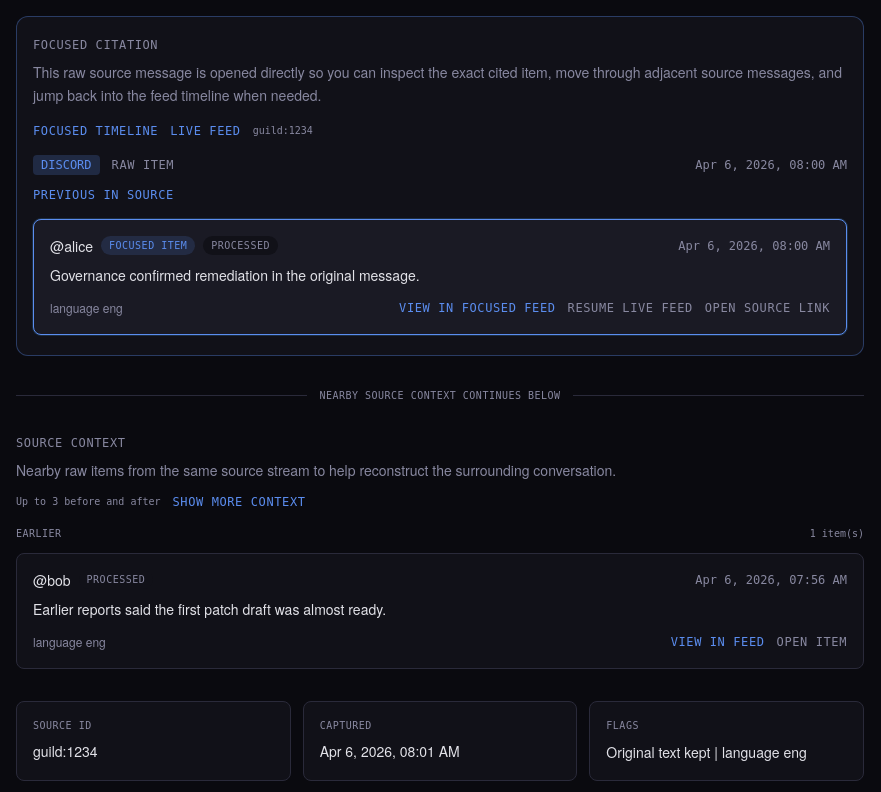
ItemView › keeps the wider source-context window while moving to the previous raw item in the same route
Expected: the text "Governance confirmed remediation in the original message." is shown, [50,264,420,284]
Click the button "Show more context".
click(239, 502)  # box [172,494,306,510]
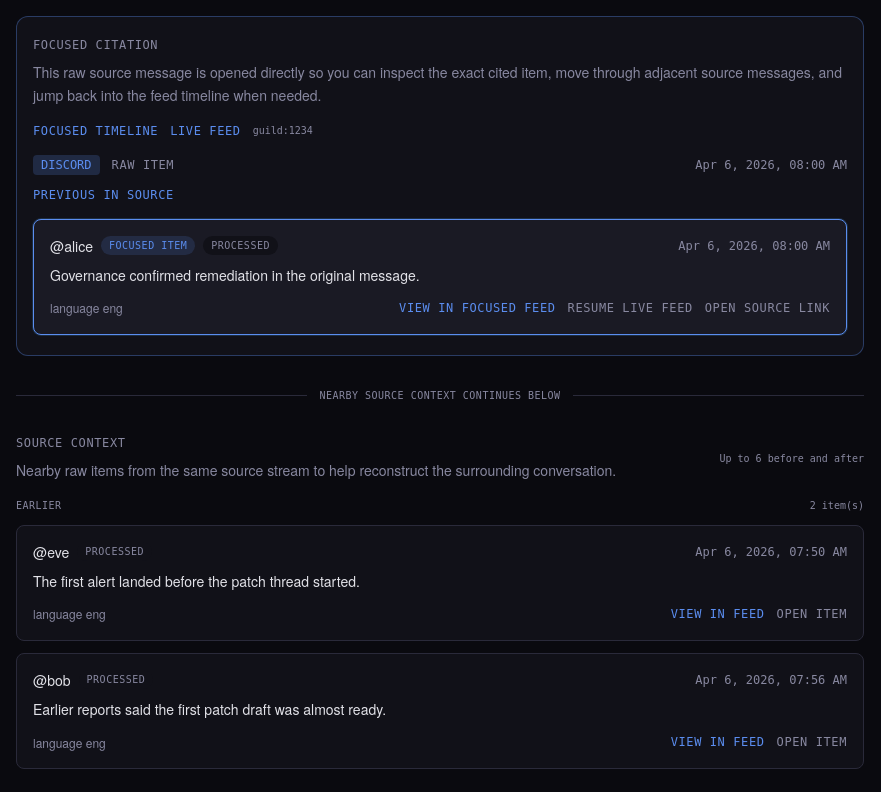
Now the text "The first alert landed before the patch thread started." is shown, box [33,570,360,590]
Now the text "Up to 6 before and after" is shown, box [720,451,864,466]
Click the link "Previous in source".
click(103, 194)  # box [33,186,174,202]
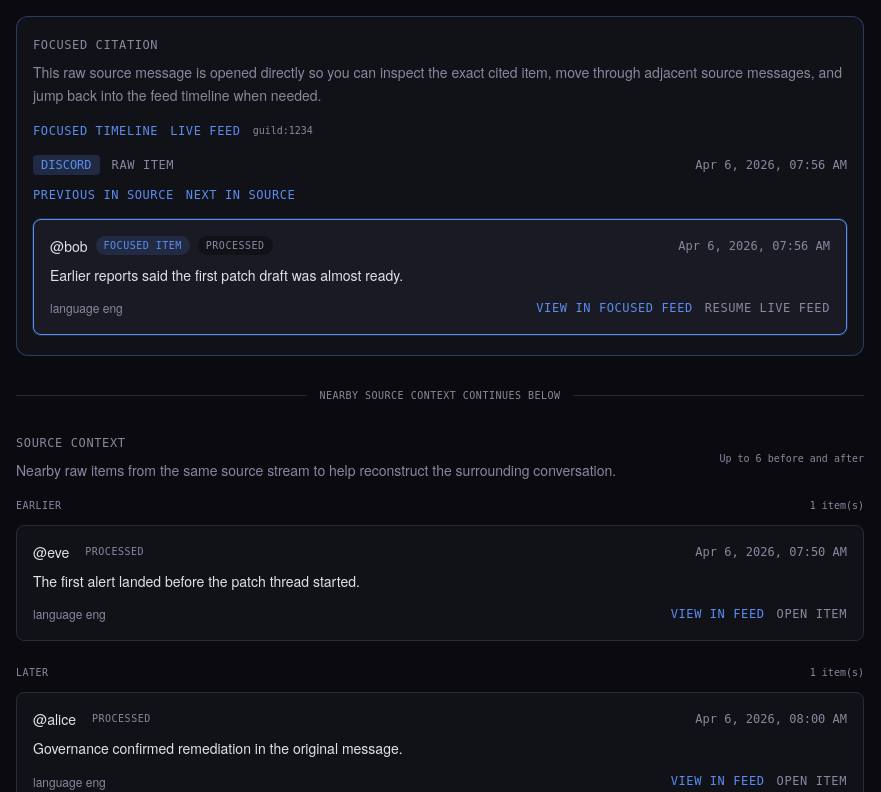
Now the text "The first alert landed before the patch thread started." is shown, box [33,570,360,590]
Now the text "Up to 6 before and after" is shown, box [720,451,864,466]
Now the text "Earlier reports said the first patch draft was almost ready." is shown, box [50,264,403,284]
